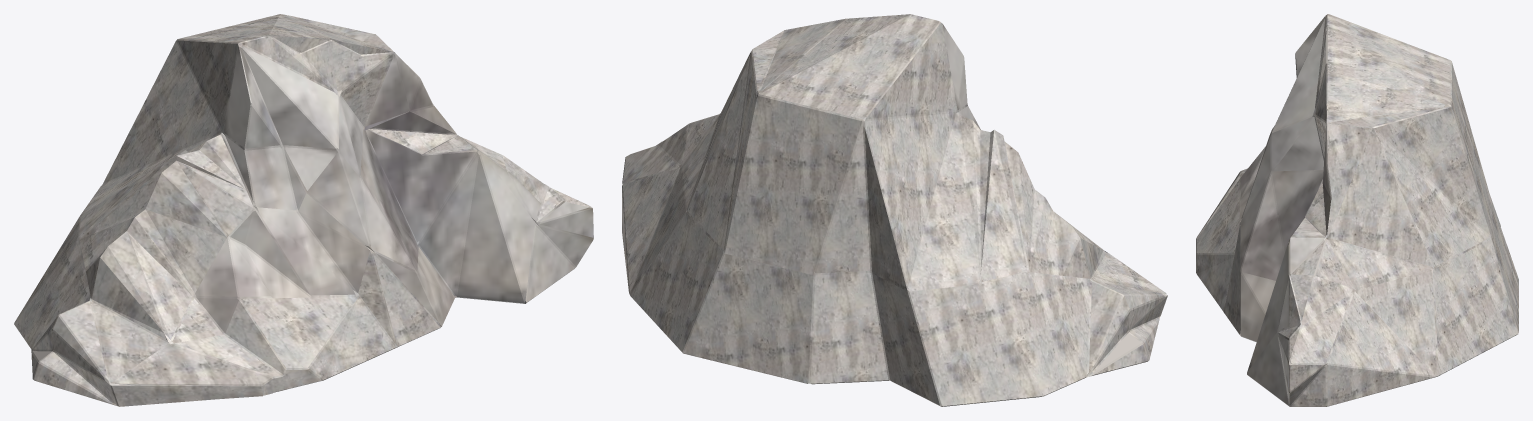
Rendered from Iceberg 2 100500 3.obj.
3 renders of one model, left to right at view 1: azimuth 30°, elevation 25°; view 2: azimuth 150°, elevation 25°; view 3: azimuth 270°, elevation 25°, orthographic. The views are drawn at different scales.
Visible parts, largest first — view 1: Mesh1 Model; view 2: Mesh1 Model; view 3: Mesh1 Model.
Boxes of the visible parts, x1,y1,x2,y2 form: Mesh1 Model: (14,14,593,406); Mesh1 Model: (622,14,1167,406); Mesh1 Model: (1196,14,1518,406).
Size of the model in its own units: 15.61 by 7.94 by 9.05.
4 materials, 2 textured.
